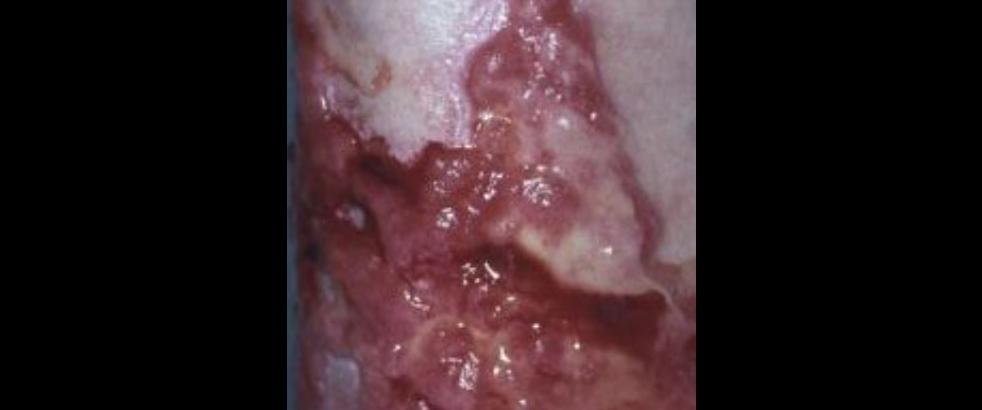NonPU: (300, 0, 696, 410)
